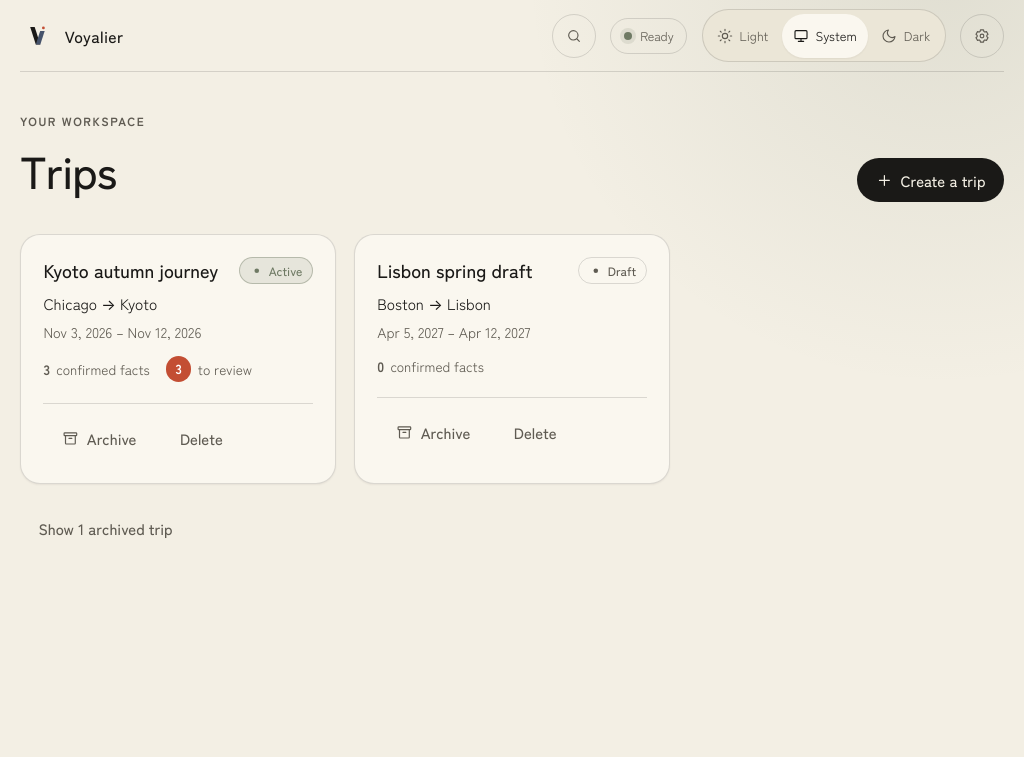
Test case: trip notes › says notes stay out of the brief and away from AI
This screenshot has width=1024, height=757.
Click the button with aria-label "Open Kyoto autumn journey".
click(131, 270)  # box [43,257,218,283]
(page scrolled)
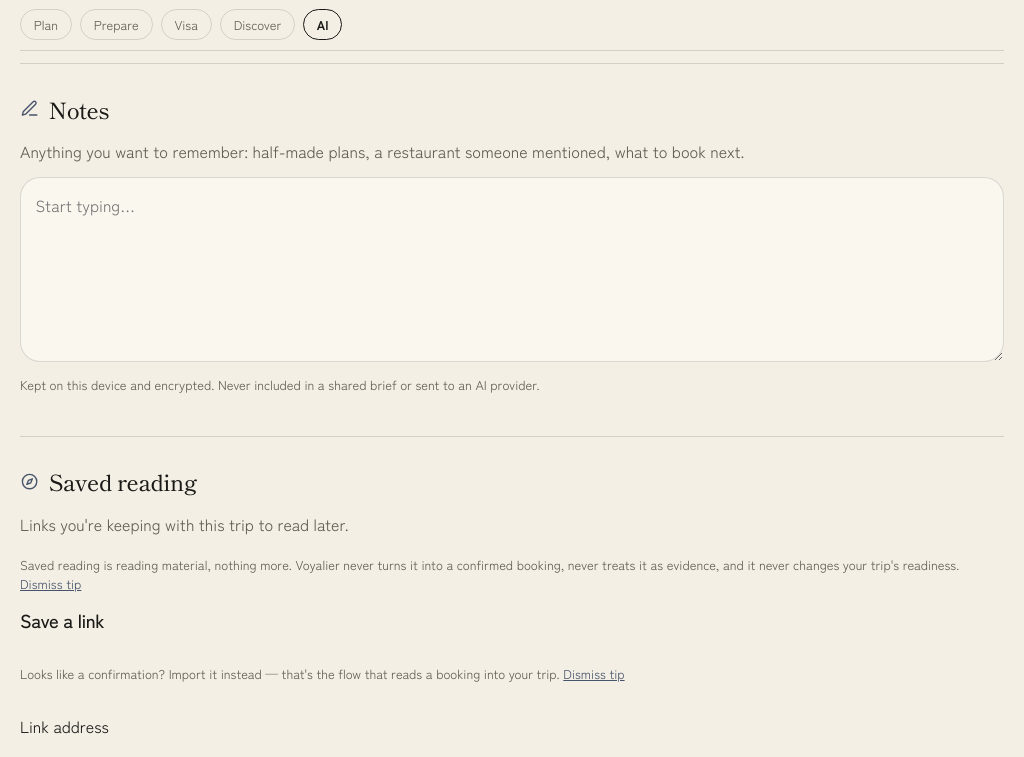
Now the text box named "Trip notes" is shown, box [20,177,1004,362]
Now the text "Never included in a shared brief or sent to an AI provider" is shown, box [20,375,540,394]
